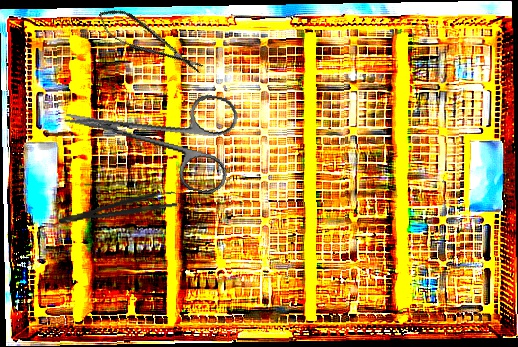Iris Scissors: (54, 66, 243, 197)
Micro Scissor: (92, 0, 208, 85)
Tissue Forceps: (57, 189, 178, 226)
